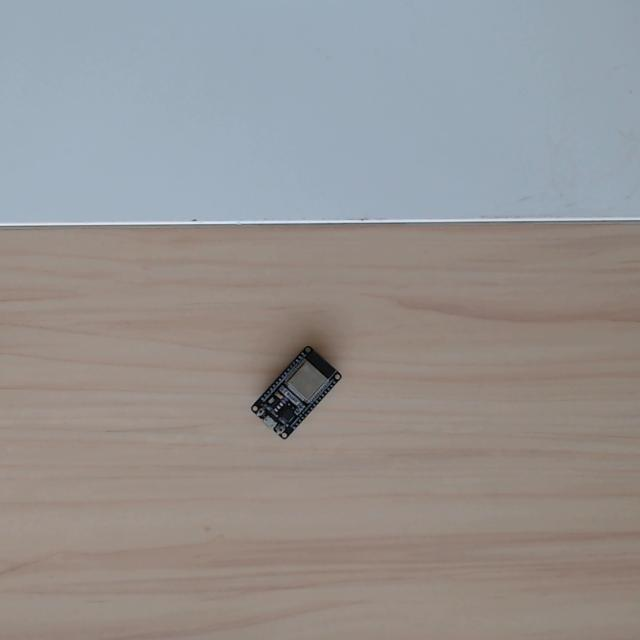ESP32-DevKit: (247, 344, 347, 446)
